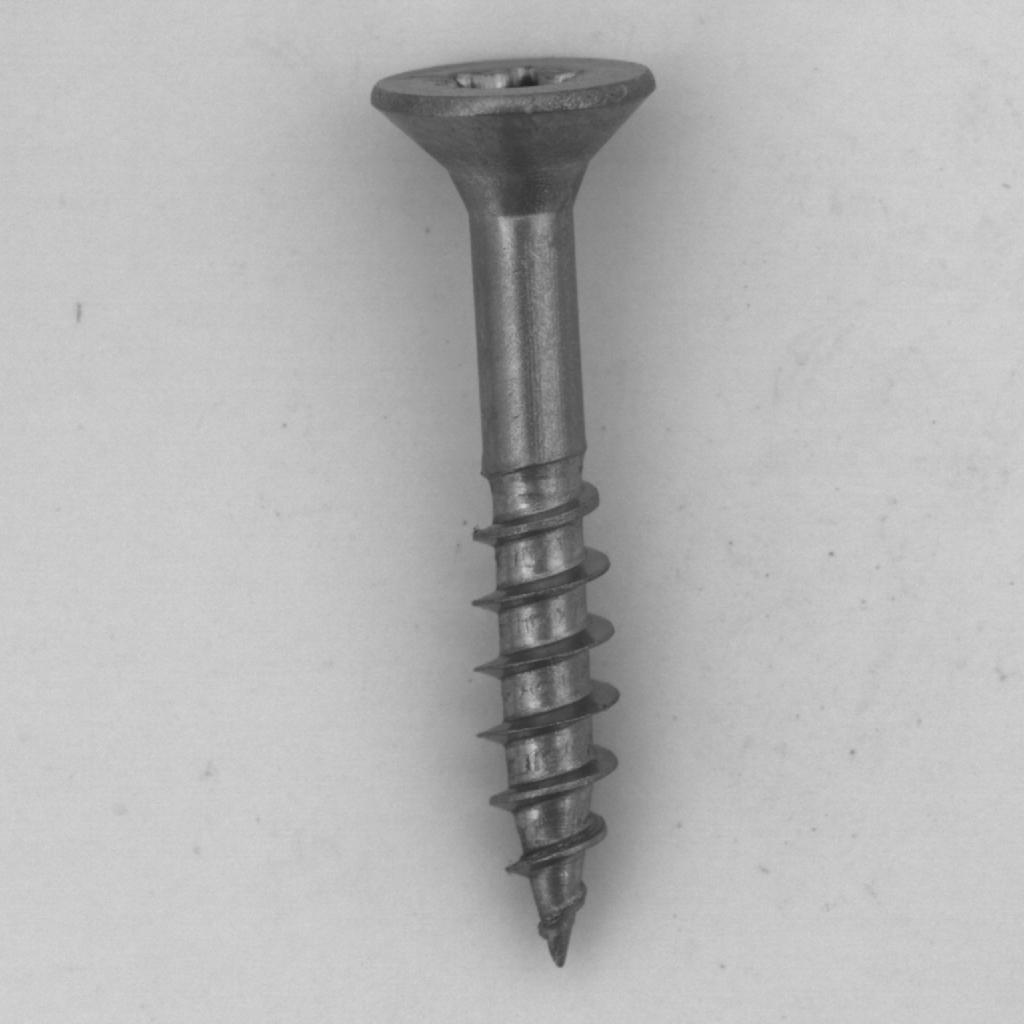good: (358, 41, 677, 983)
